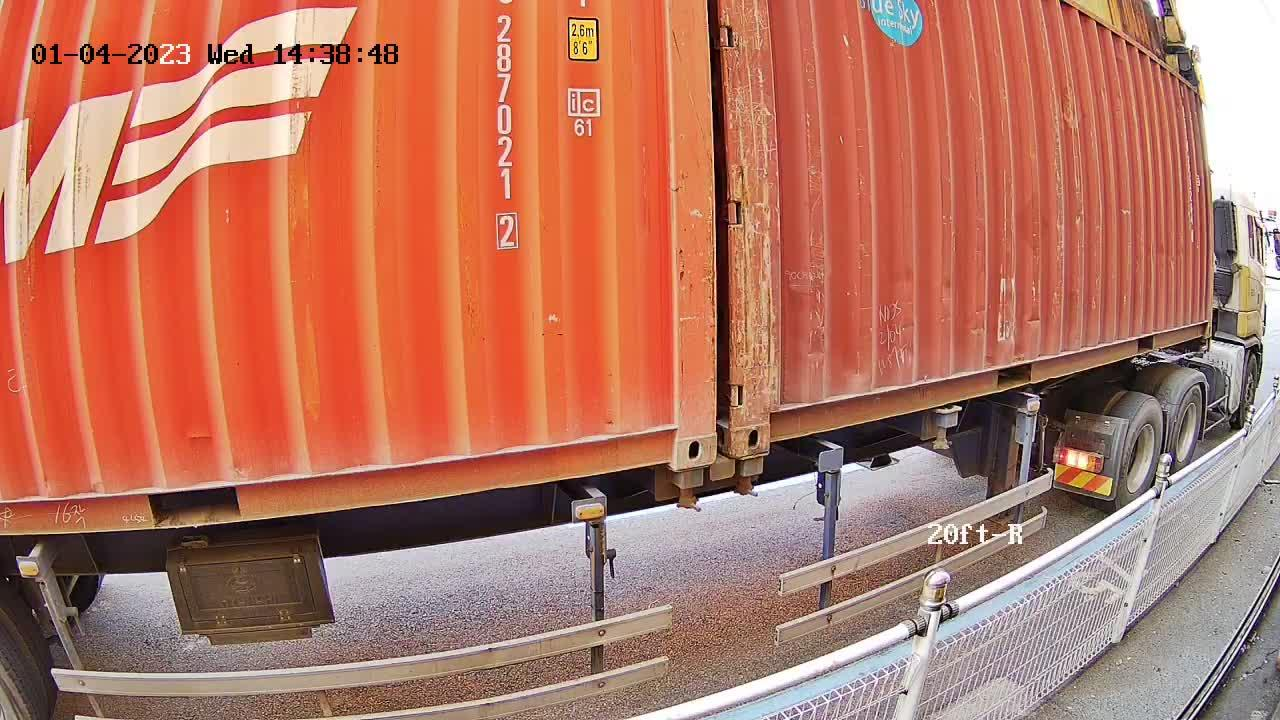Cone: (668, 467, 706, 512), (733, 455, 766, 504)
Hole_L: (731, 382, 801, 458)
Hole_R: (630, 387, 717, 473)
Tire: (1117, 403, 1163, 509), (1170, 384, 1204, 472)
